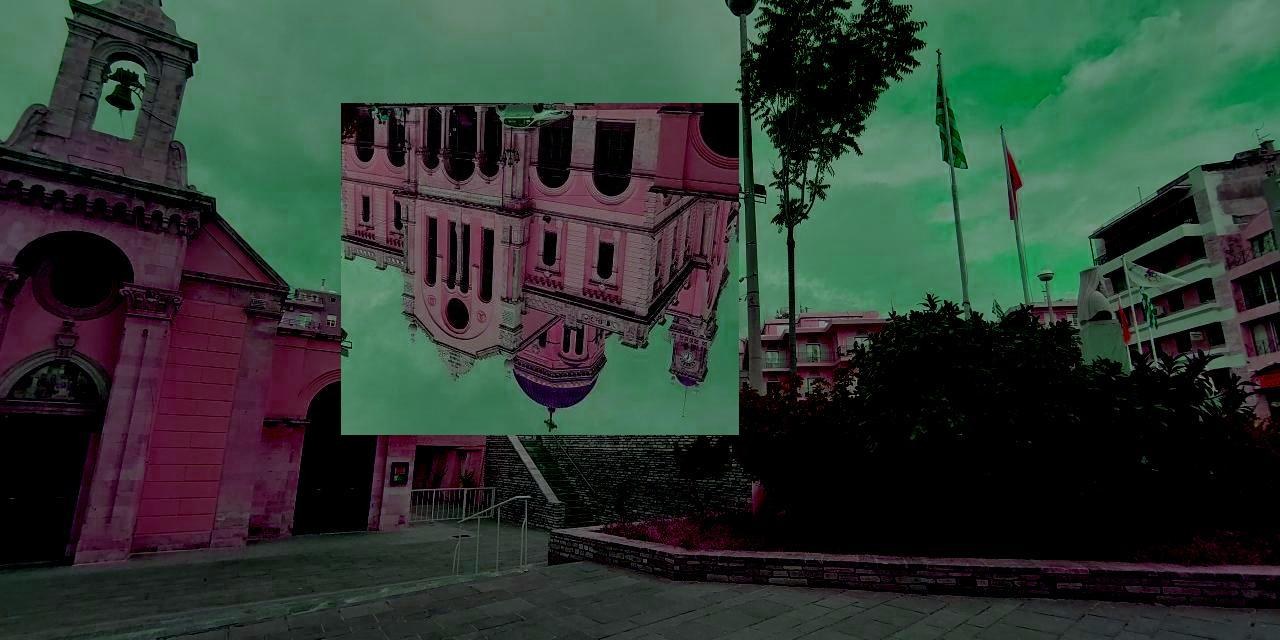Agios Minas: (342, 104, 740, 436)
